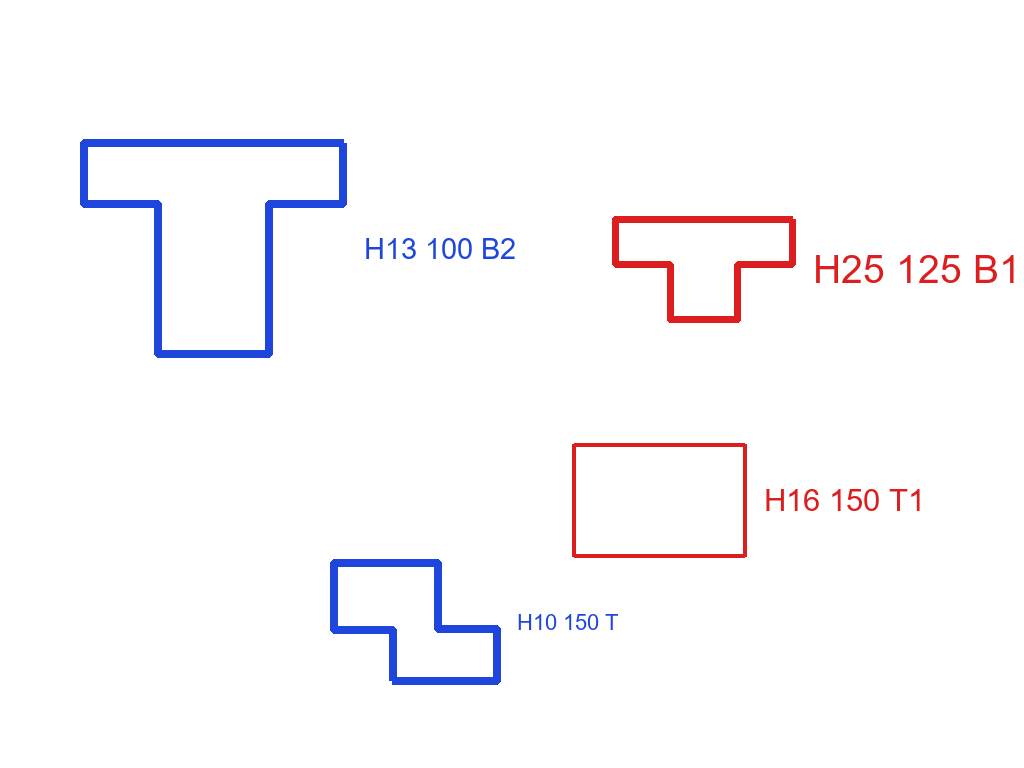shape: (77, 137, 350, 360), (328, 557, 503, 687), (570, 440, 748, 560), (610, 214, 798, 325)
text: (811, 253, 1023, 285), (762, 487, 927, 513), (362, 236, 518, 261), (515, 612, 620, 632)
